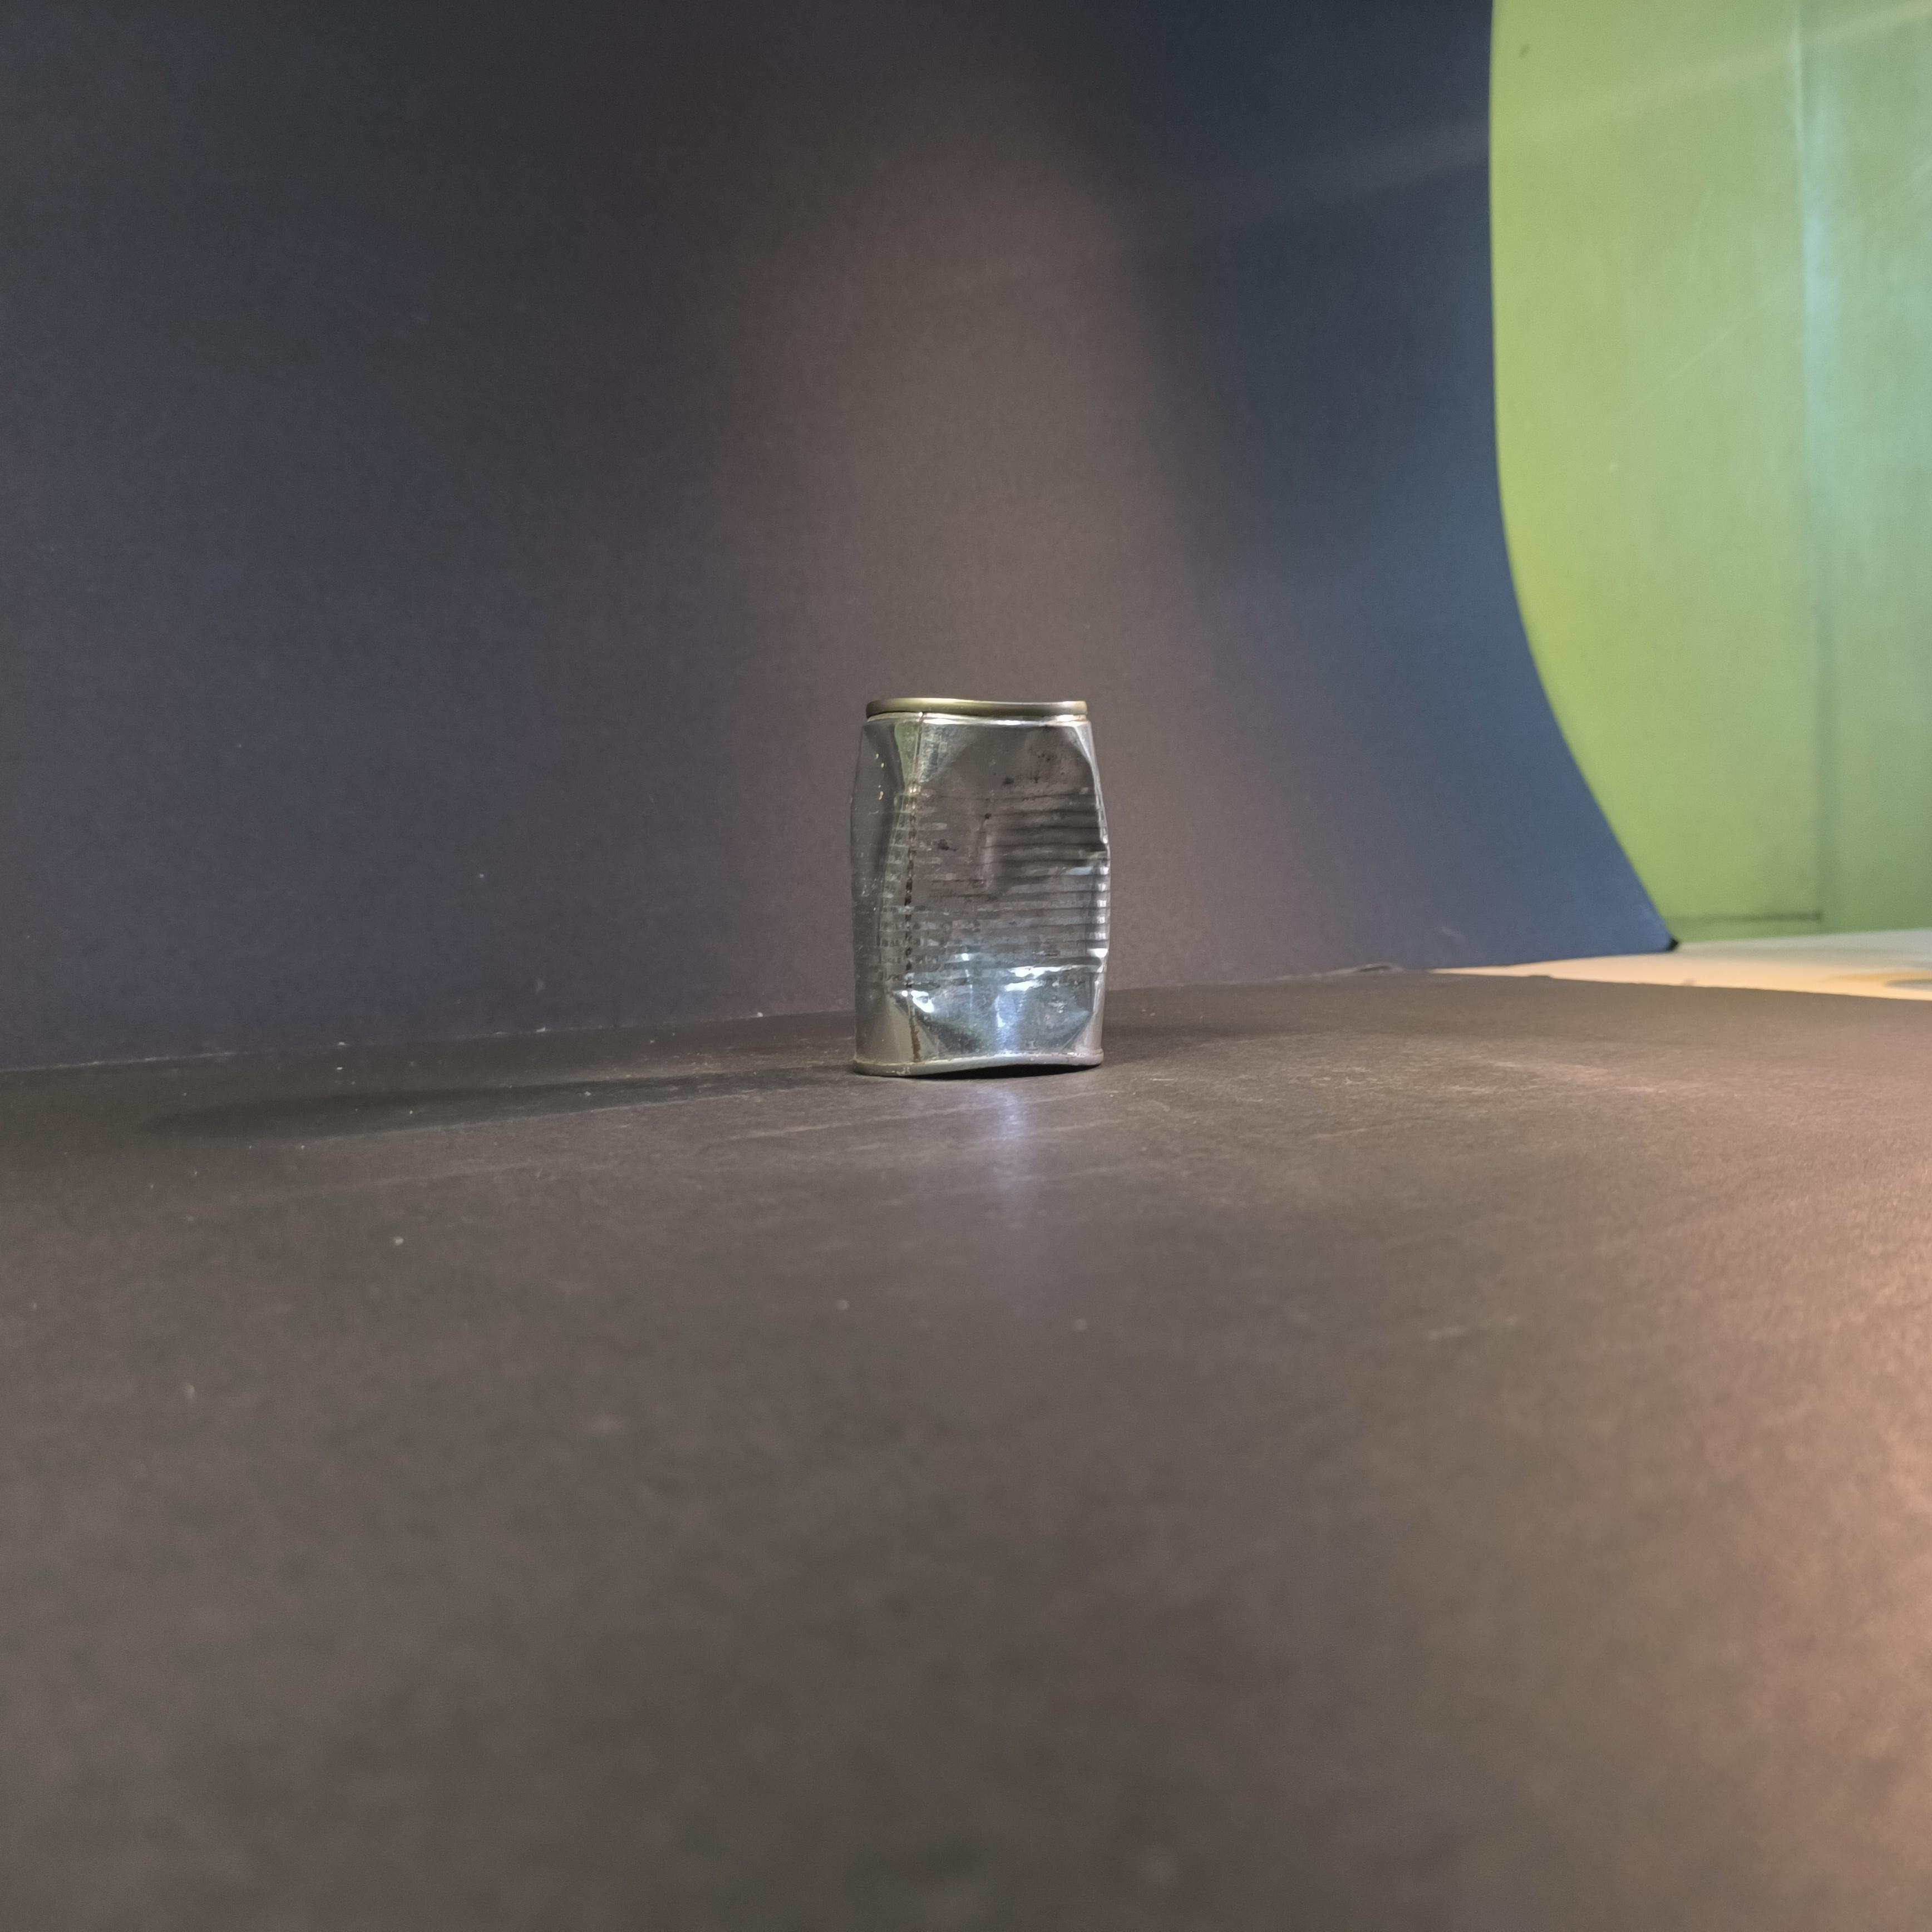Major Defect: (851, 697, 1111, 1079)
